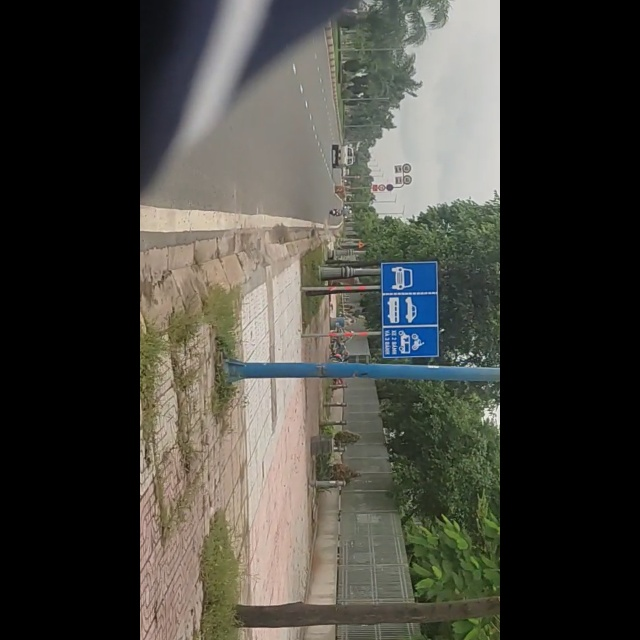bien_chi_dan: (425, 261, 533, 359)
